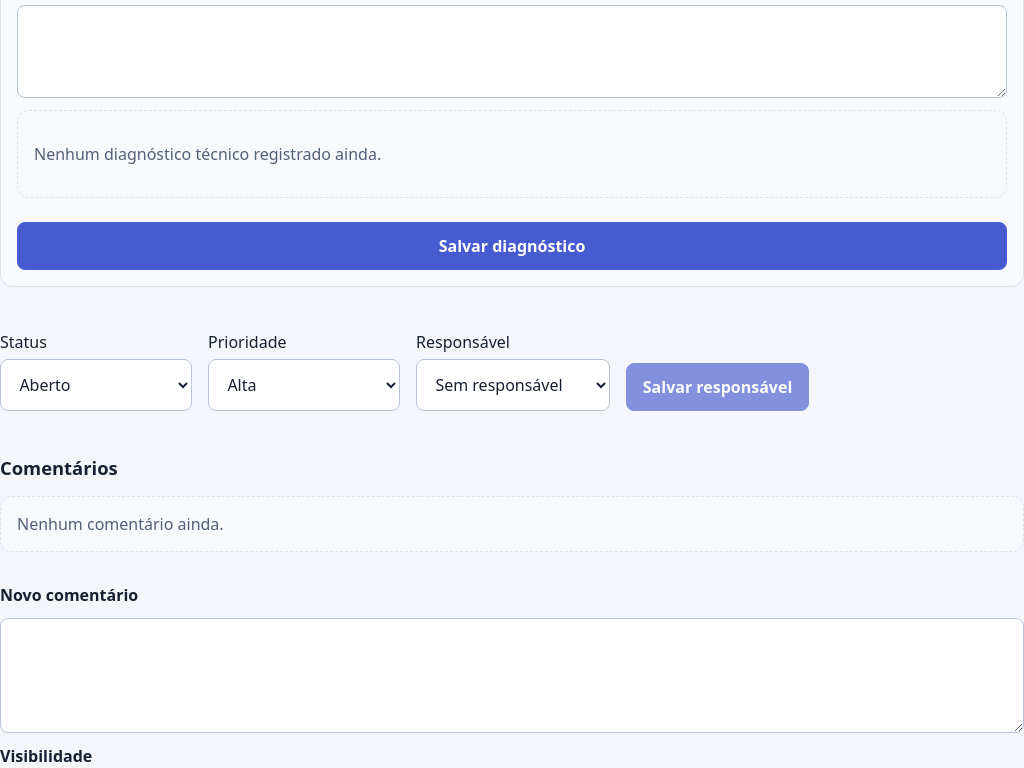
it: TicketDetailPage: integracao do detalhe › trata 403 da API com mensagem visivel e toast de erro
(page scrolled)
Select "Agente Disponivel" in the dropdown labelled "Responsável" at point(513, 385), box [416, 359, 610, 410]
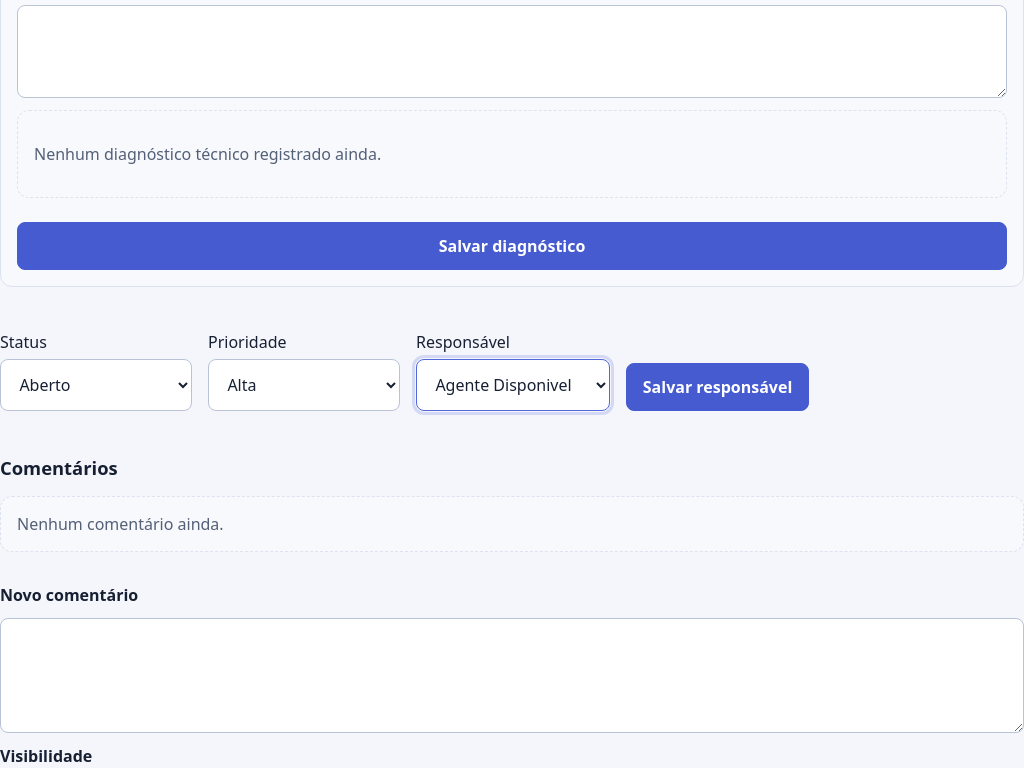
Click the button "Salvar responsável" at point(718, 386), box [626, 362, 809, 410]
(page scrolled)
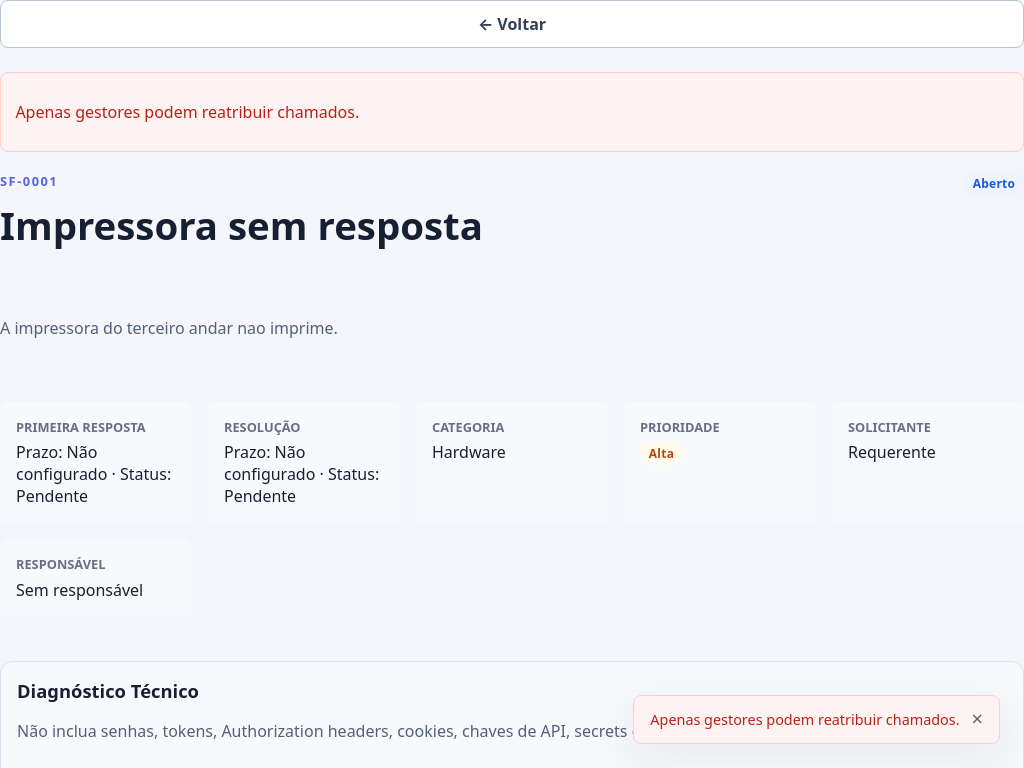
expect the message "Apenas gestores podem reatribuir chamados." is shown: met, box [0, 72, 1023, 152]
